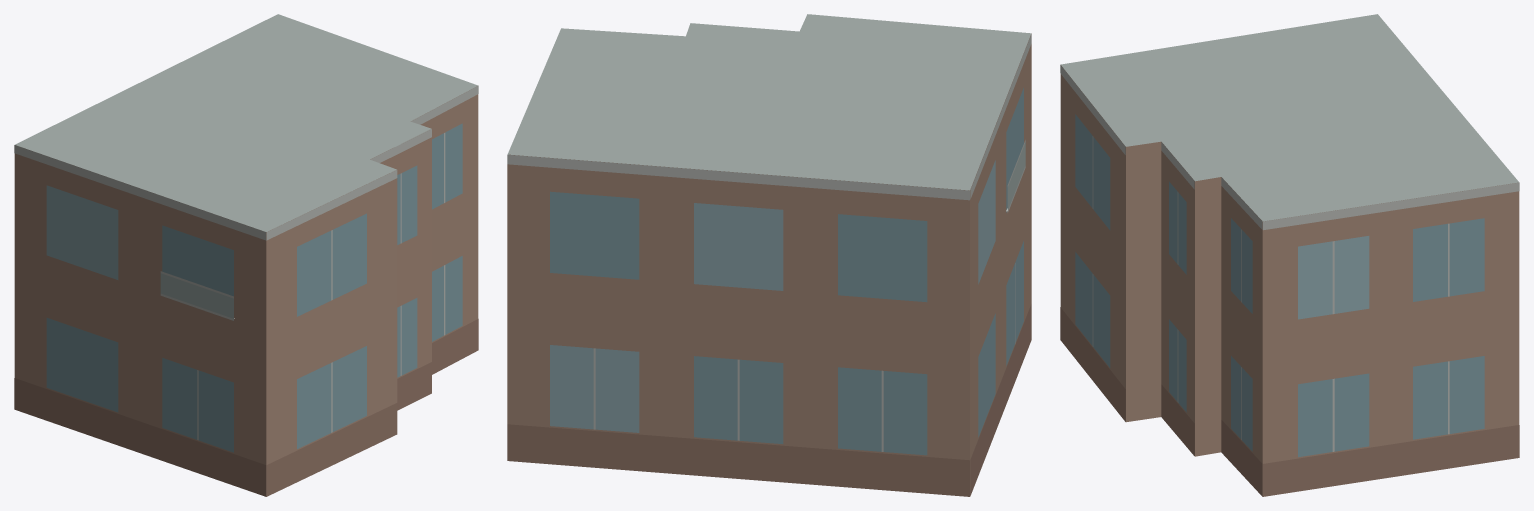
Rendered from survey-upis-32501163.glb.
3 views of the same model, side by side, from view 1: azimuth 30°, elevation 25°; view 2: azimuth 150°, elevation 25°; view 3: azimuth 270°, elevation 25° (orthographic). The views are drawn at different scales.
Parts seen in each view (by area): view 1: survey-upis-32501163.tmp; view 2: survey-upis-32501163.tmp; view 3: survey-upis-32501163.tmp.
Part boxes in pixels (<box>): survey-upis-32501163.tmp: <box>14,14,478,496</box>; survey-upis-32501163.tmp: <box>507,14,1031,496</box>; survey-upis-32501163.tmp: <box>1060,14,1519,496</box>.
Size of the model in its own units: 12.29 by 7.6 by 11.49.
